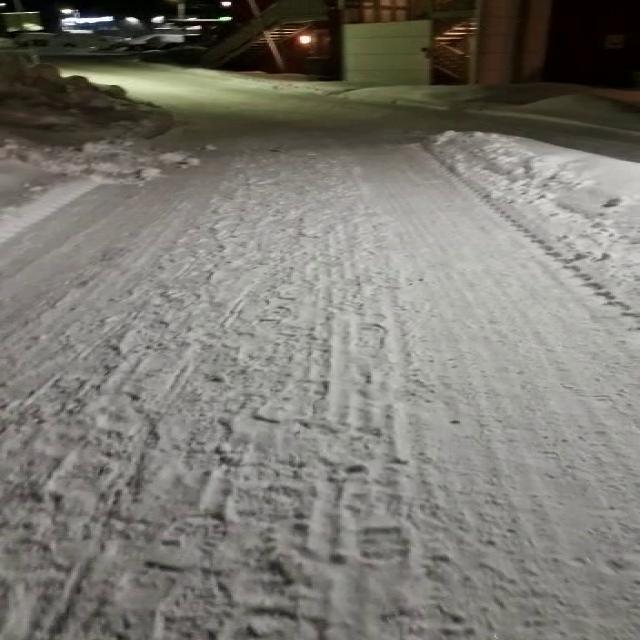path: (0, 61, 636, 640)
